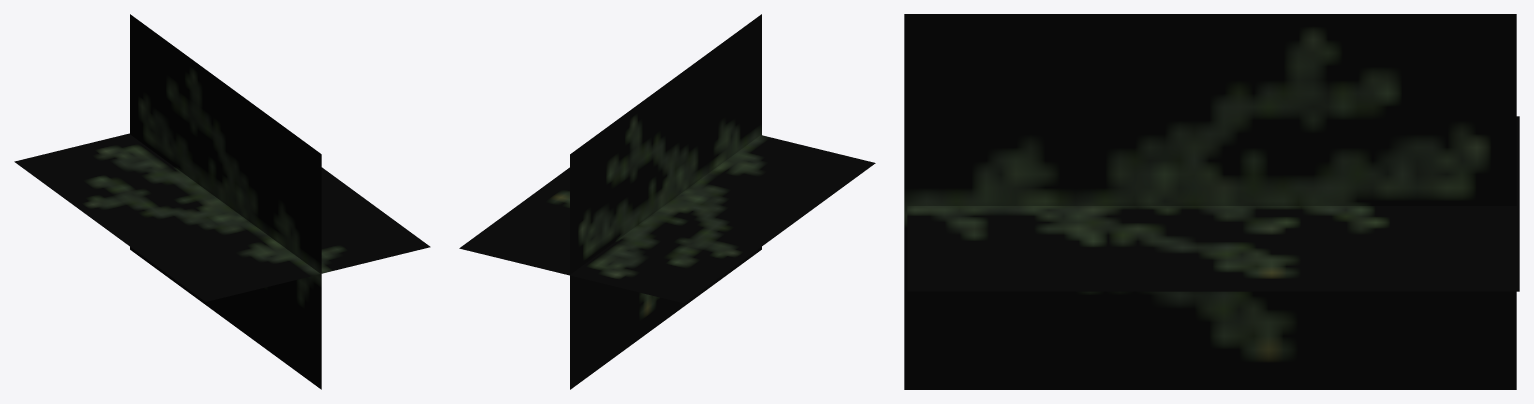
File: SM_EC_Plant_Card_Cross_23.fbx
3 renders of one model, left to right at view 1: azimuth 30°, elevation 25°; view 2: azimuth 150°, elevation 25°; view 3: azimuth 270°, elevation 25°, orthographic. The views are drawn at different scales.
Parts seen in each view (by area): view 1: SM_EC_Plant_Card_Cross_23; view 2: SM_EC_Plant_Card_Cross_23; view 3: SM_EC_Plant_Card_Cross_23.
Boxes of the visible parts, x1,y1,x2,y2 form: SM_EC_Plant_Card_Cross_23: (14,14,430,389); SM_EC_Plant_Card_Cross_23: (459,14,875,389); SM_EC_Plant_Card_Cross_23: (904,14,1519,389).
Size of the model in its own units: 0.436 by 0.6464 by 0.436.
